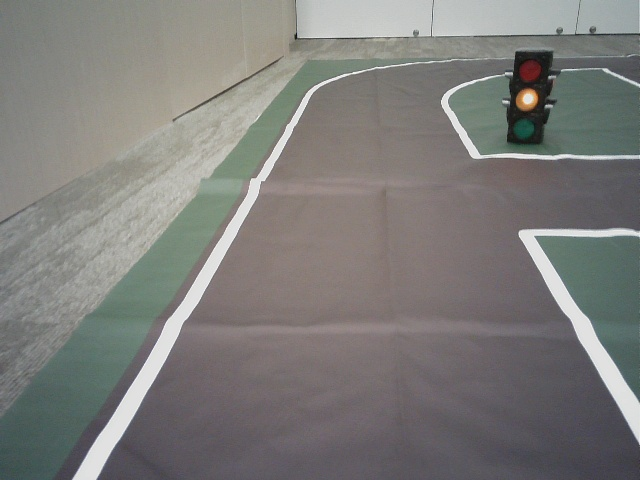yellow: (510, 54, 541, 139)
